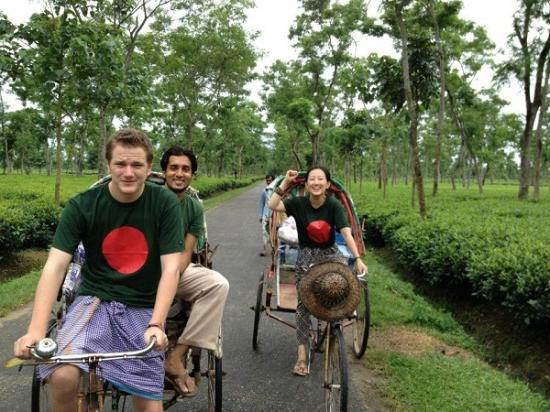Rickshaw: (21, 154, 230, 409), (258, 163, 375, 410)
